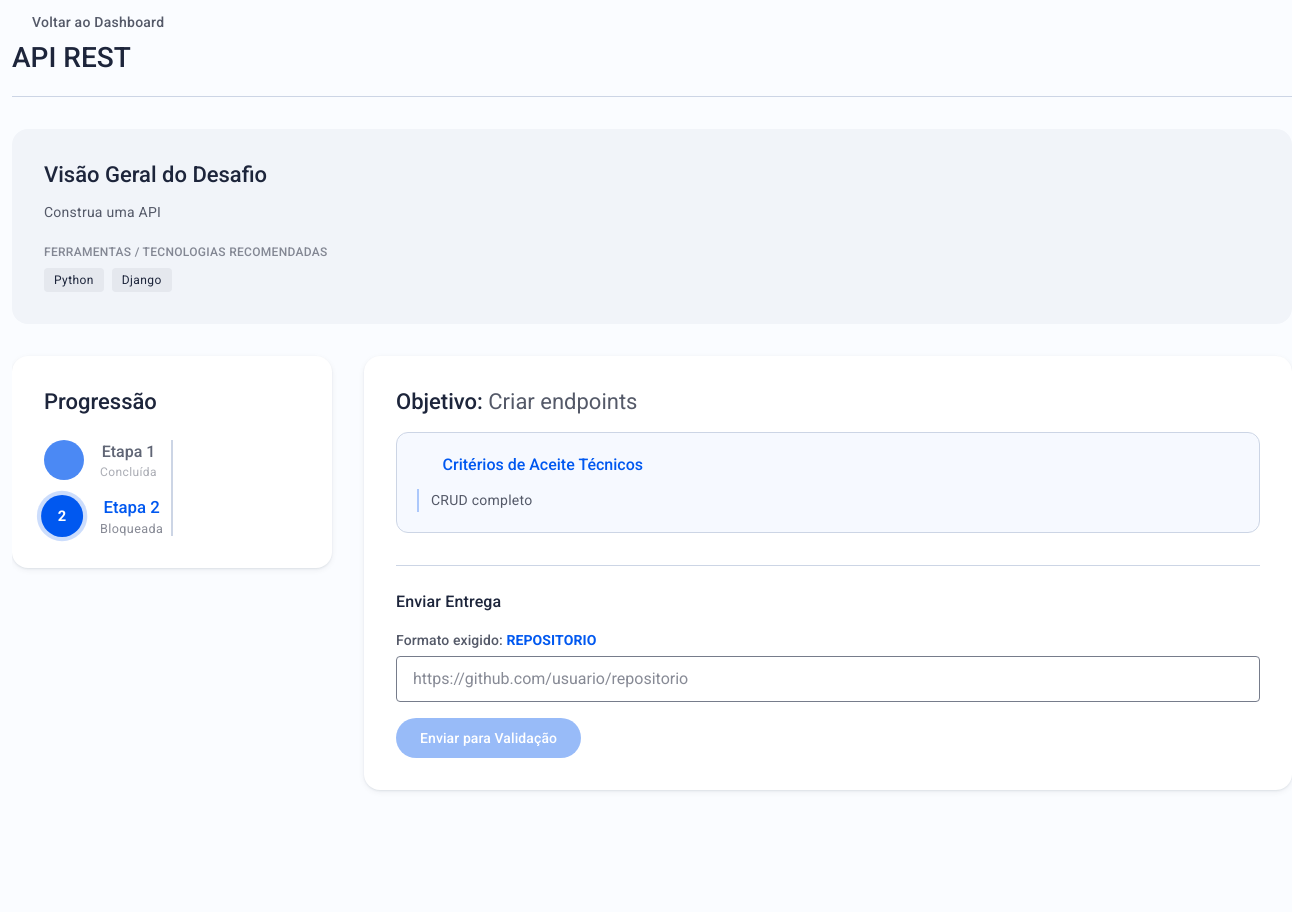
ProjectWorkspace › etapa aprovada não mostra o formulário de envio
Step 1. Click the button "Etapa 1 Concluída" → click(100, 460), box [44,440,157,480]
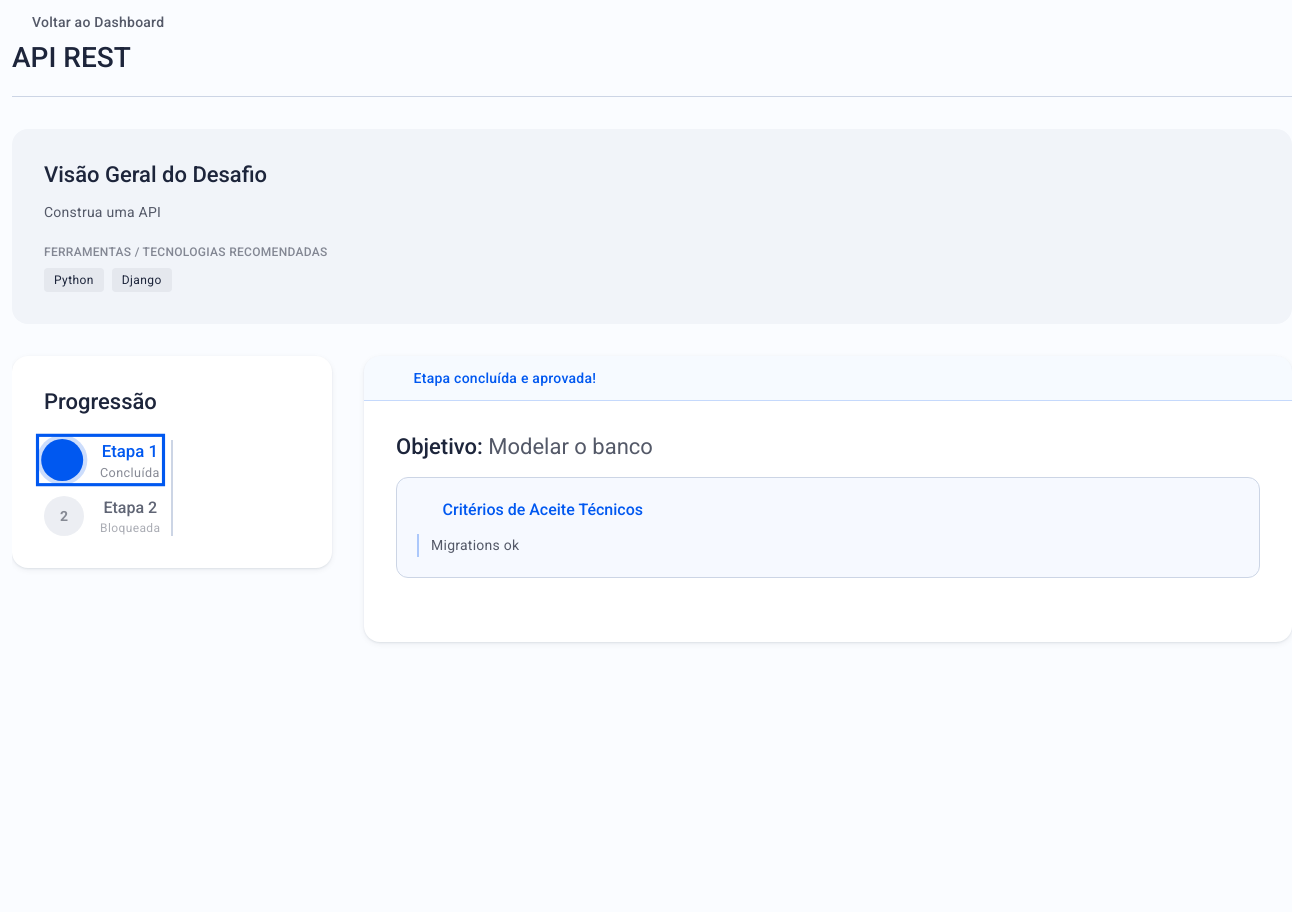
Expected: the field with placeholder "https://github.com/usuario/repositorio" is not shown
Now the text "Etapa concluída e aprovada!" is shown, box [414,368,596,388]
